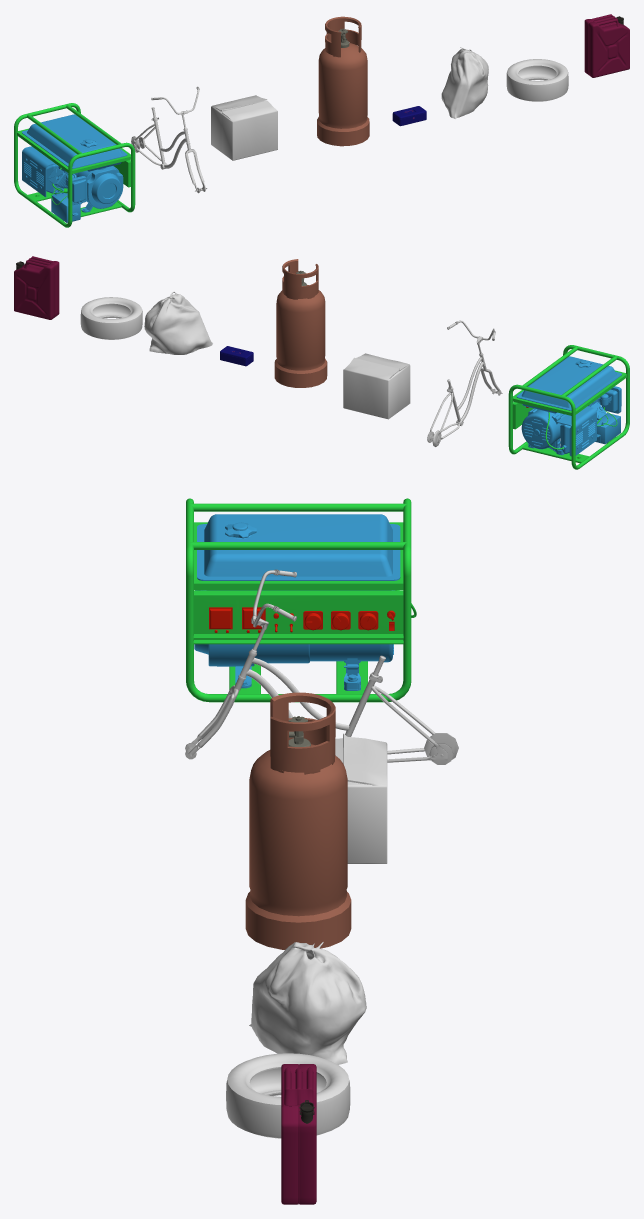
The model's file is Garage Props1.fbx.
The picture shows the model from 3 angles, top to bottom: view 1: azimuth 30°, elevation 25°; view 2: azimuth 150°, elevation 25°; view 3: azimuth 270°, elevation 25°; orthographic projection. The views are drawn at different scales.
Parts seen in each view (by area): view 1: Chasis_low, gas_bottle_fire, Cube.001, Plane, GarbageWhiteNew_Baked, Car_Tire_02, Object_8, Elbow Joint.001; view 2: Chasis_low, gas_bottle_fire, Cube.001, GarbageWhiteNew_Baked, Plane, Car_Tire_02, Object_8, Elbow Joint.001; view 3: Chasis_low, gas_bottle_fire, GarbageWhiteNew_Baked, Car_Tire_02, Object_8, Cube.001, Plane.
Boxes of the visible parts, x1,y1,x2,y2 form: Chasis_low: (14, 103, 135, 227); gas_bottle_fire: (317, 16, 369, 146); Cube.001: (211, 95, 277, 160); Plane: (584, 14, 629, 77); GarbageWhiteNew_Baked: (441, 47, 488, 119); Car_Tire_02: (506, 59, 568, 101); Object_8: (131, 86, 207, 193); Elbow Joint.001: (392, 106, 426, 126); Chasis_low: (508, 345, 629, 469); gas_bottle_fire: (274, 259, 327, 387); Cube.001: (343, 353, 410, 419); GarbageWhiteNew_Baked: (144, 292, 212, 354); Plane: (14, 256, 59, 319); Car_Tire_02: (80, 297, 142, 339); Object_8: (427, 320, 502, 446); Elbow Joint.001: (220, 346, 253, 366); Chasis_low: (186, 498, 416, 702); gas_bottle_fire: (245, 692, 351, 949); GarbageWhiteNew_Baked: (249, 942, 366, 1064); Car_Tire_02: (226, 1053, 350, 1138); Object_8: (185, 569, 458, 764); Cube.001: (335, 733, 387, 863); Plane: (281, 1064, 316, 1204).
Size of the model in its own units: 7.46 by 1.38 by 1.51.
